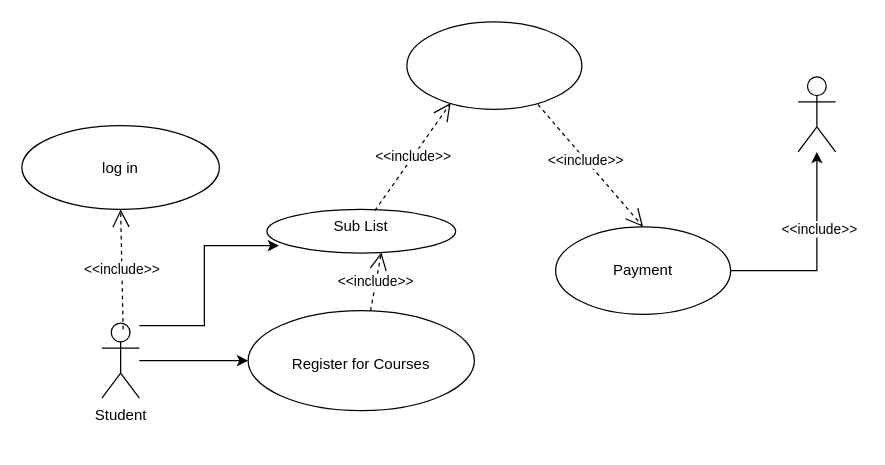
This 885x465 diagram has some shape labels left out. Each missing label, with the centre of its shape:
"Billing System" belongs at (x=816, y=114).
"Check Slot Availability" belongs at (x=494, y=65).
